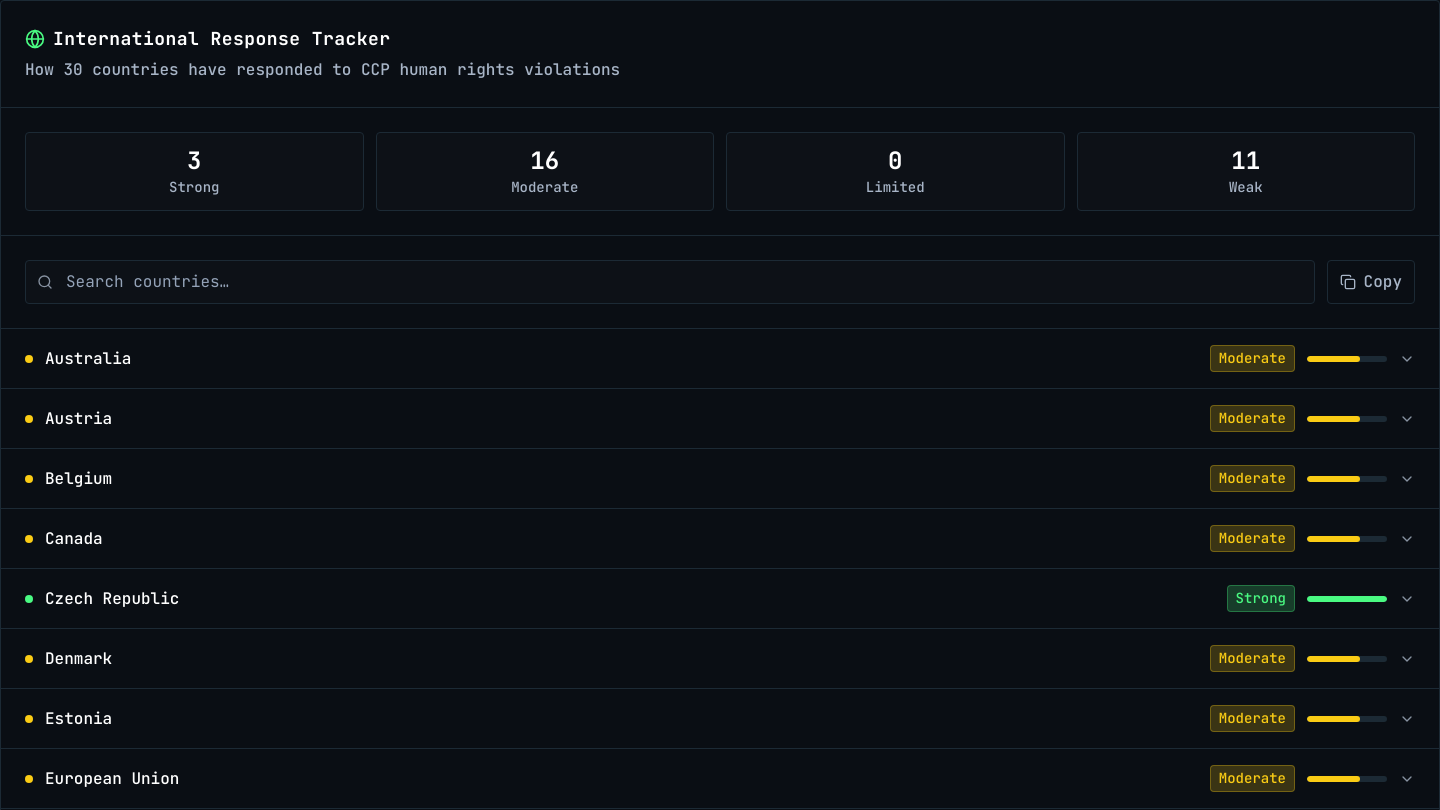
Test: InternationalResponseTracker › shows Clear button when stance filter is active
Click the button "3 Strong": (194, 172) top-left (25, 132), bottom-right (364, 211)
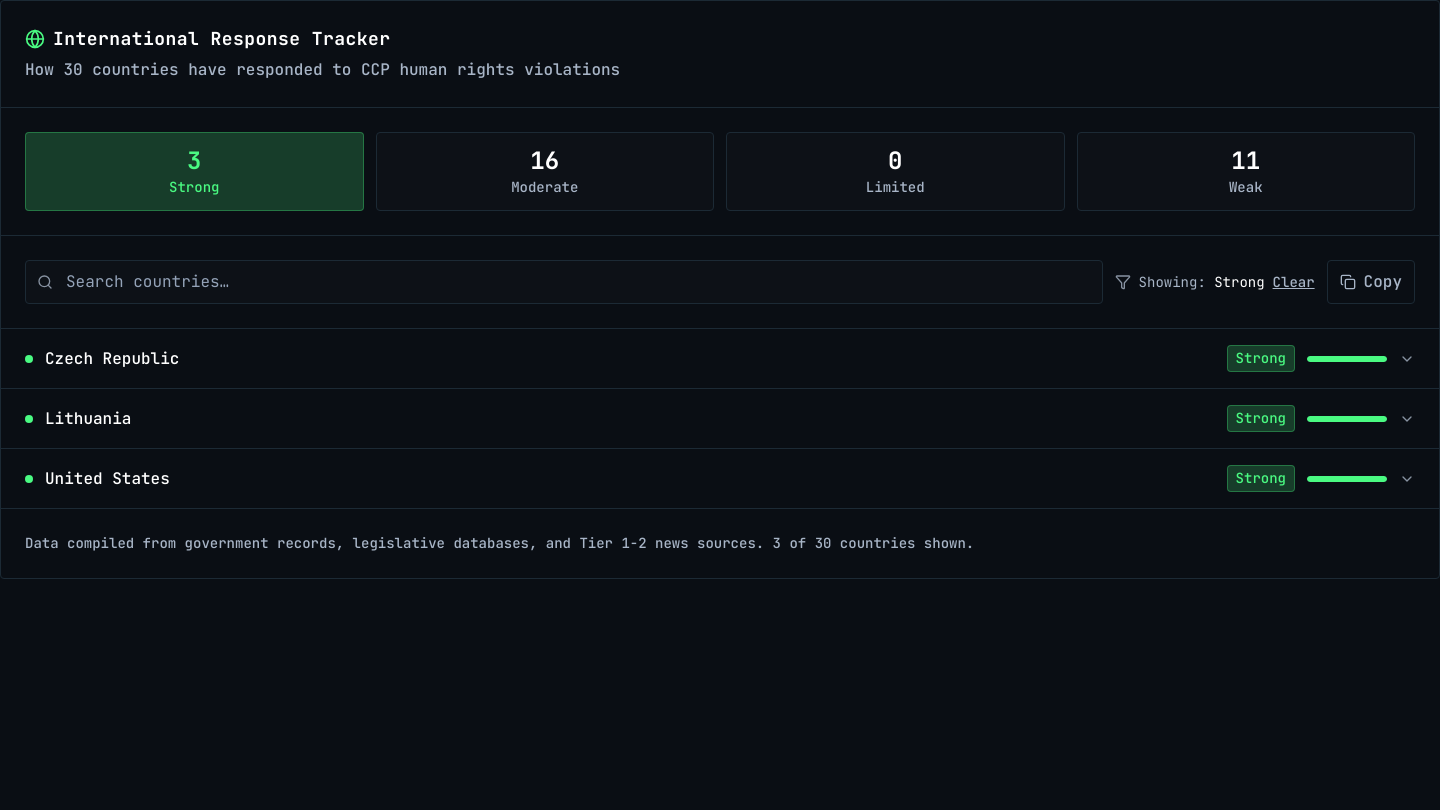
Expected: the button "Clear" is shown, top-left (1273, 272), bottom-right (1315, 292)
